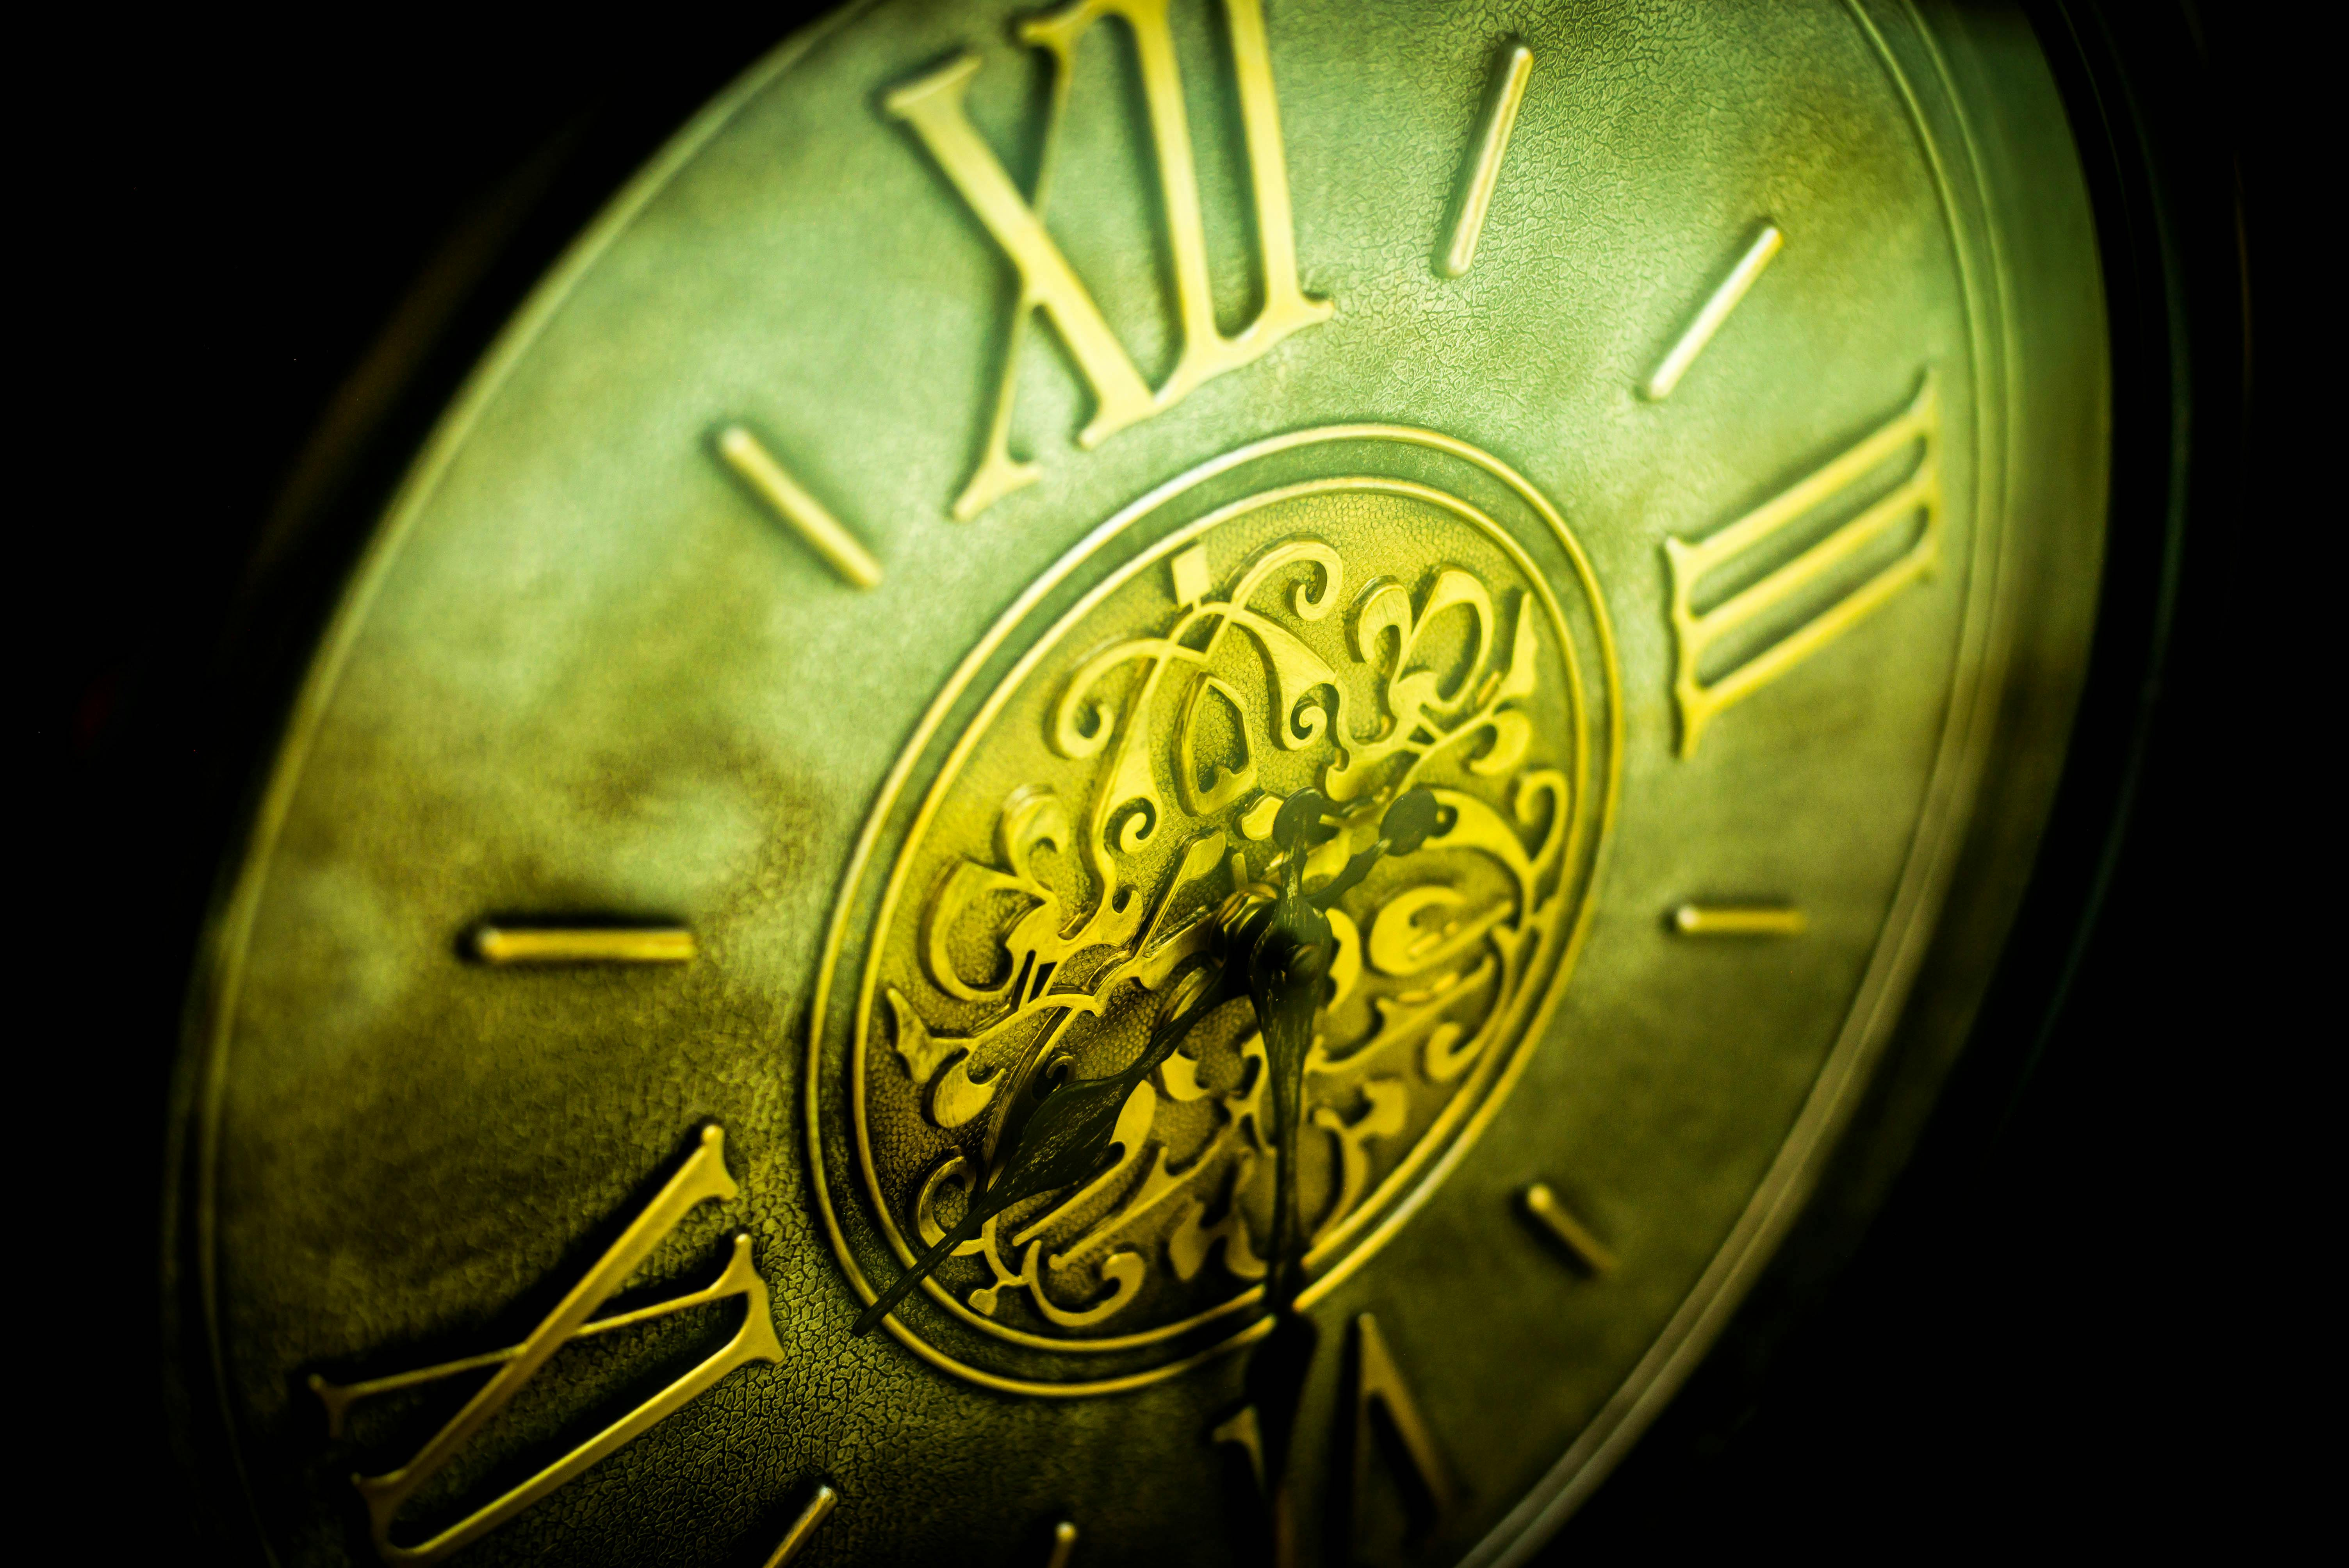clock: (228, 79, 2177, 1568)
